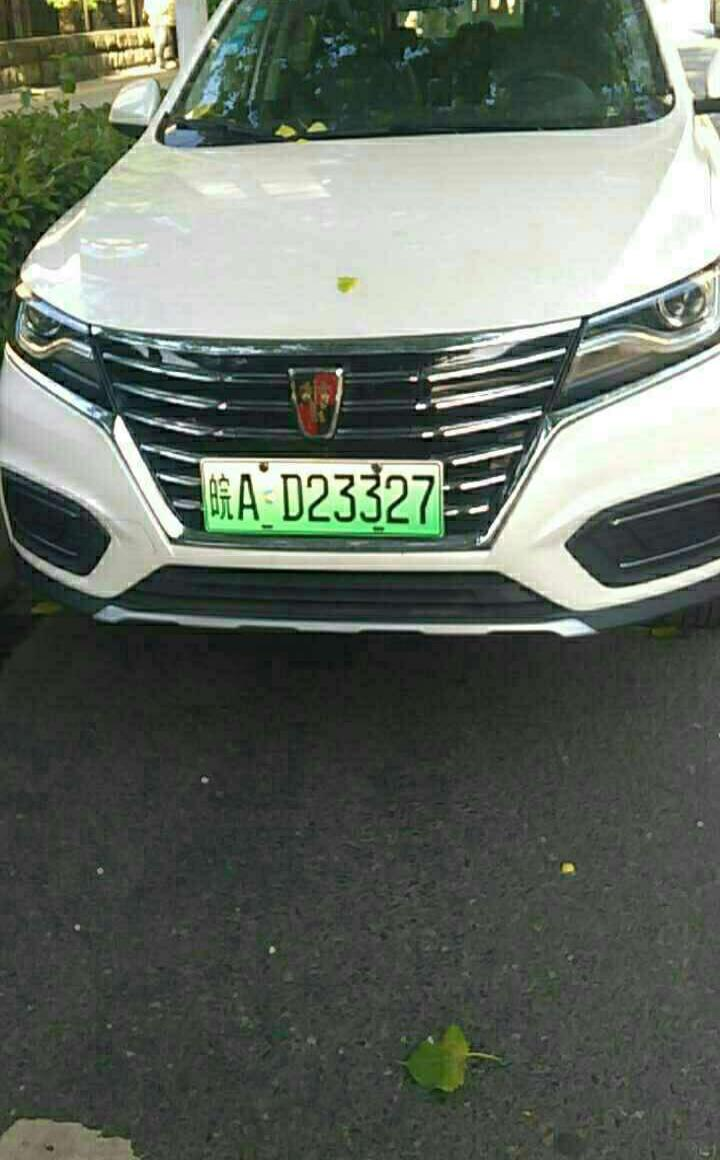car: (195, 452, 450, 541)
